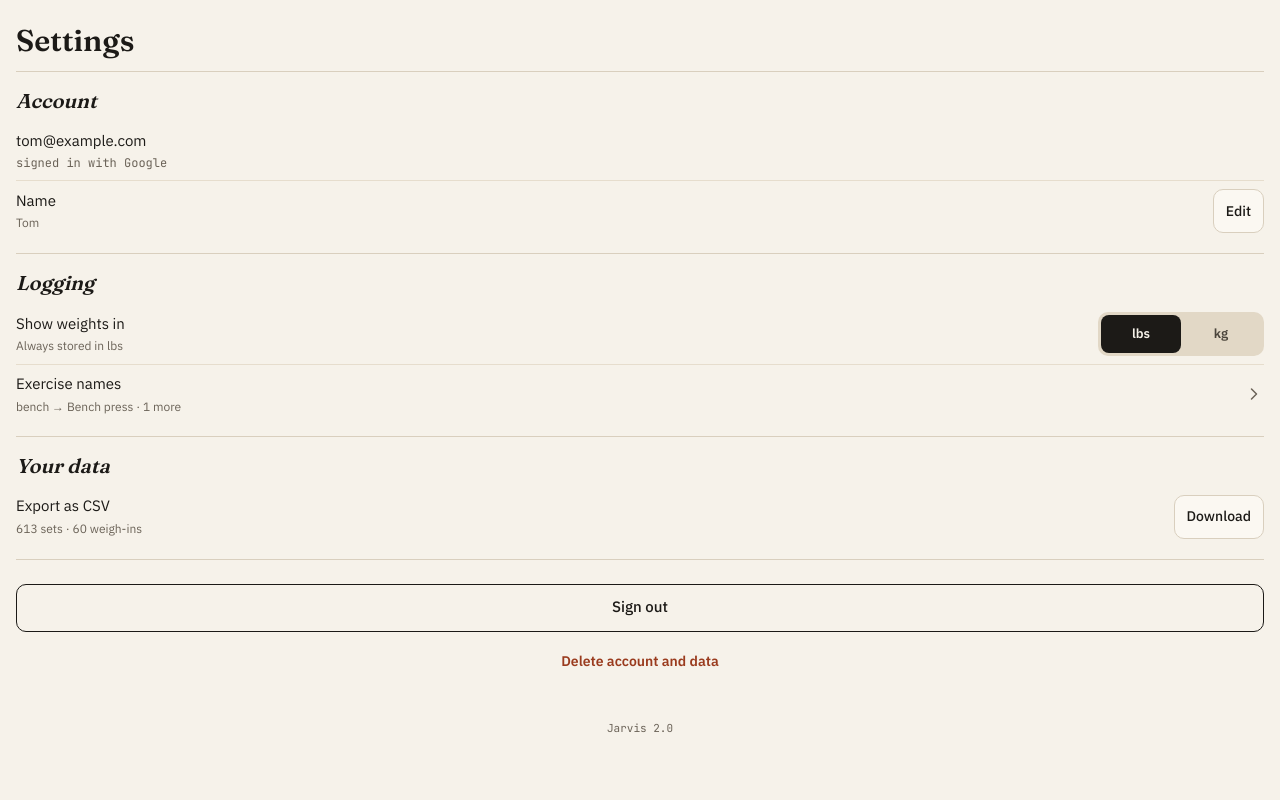
Test: Settings › edits the name: Edit, type, Enter saves; Escape cancels
Click the button "Edit" at (1238, 211), box x1=1213 y1=189 x2=1264 y2=233
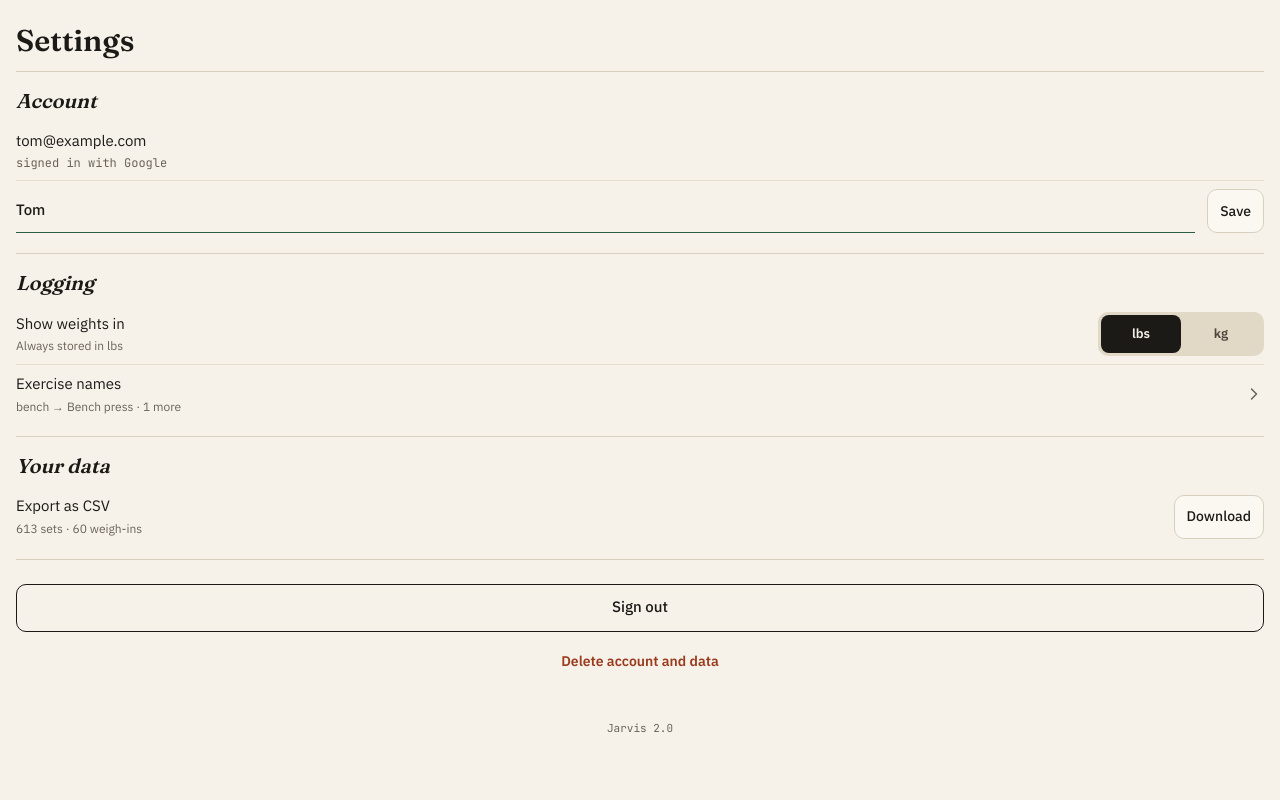
Replace the text in the field named "Your name" with "  Thomas  " at (606, 211), box x1=16 y1=189 x2=1195 y2=233
Then press Enter
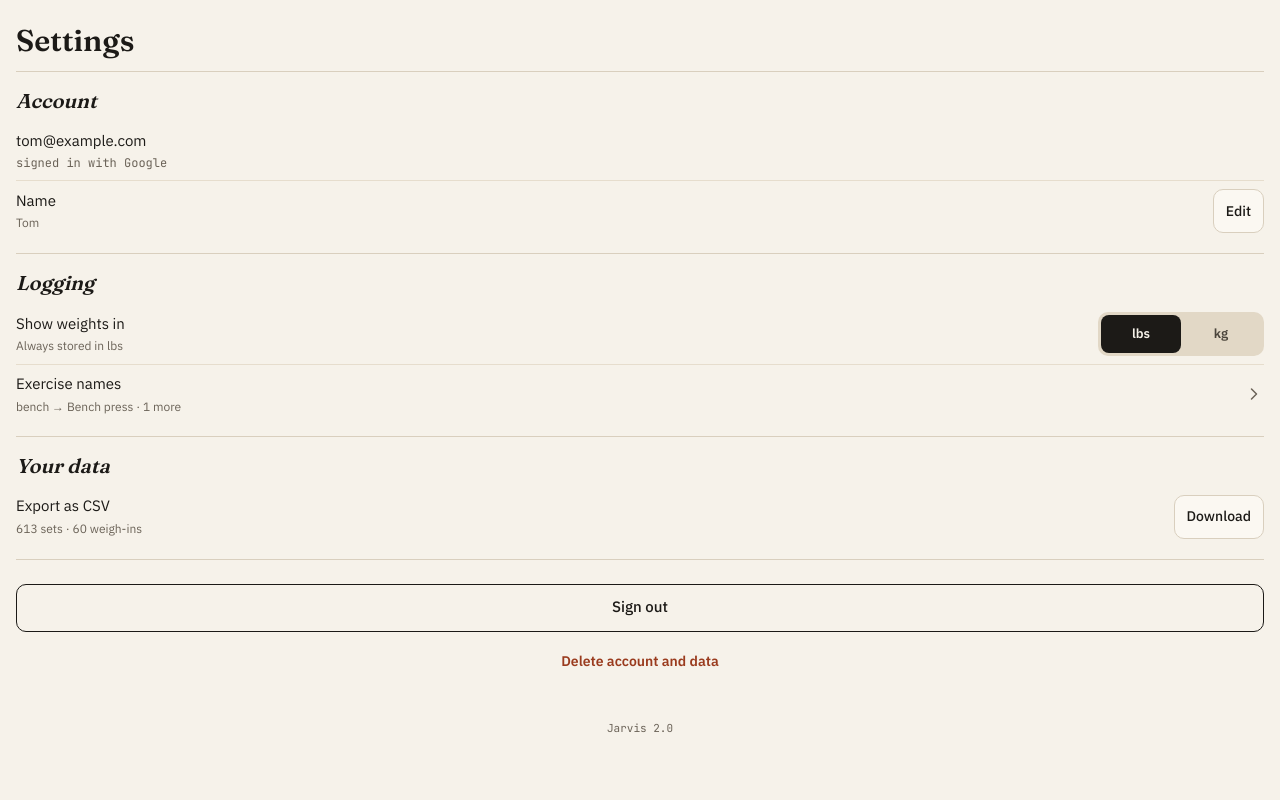
Click the button "Edit" at (1238, 211), box x1=1213 y1=189 x2=1264 y2=233
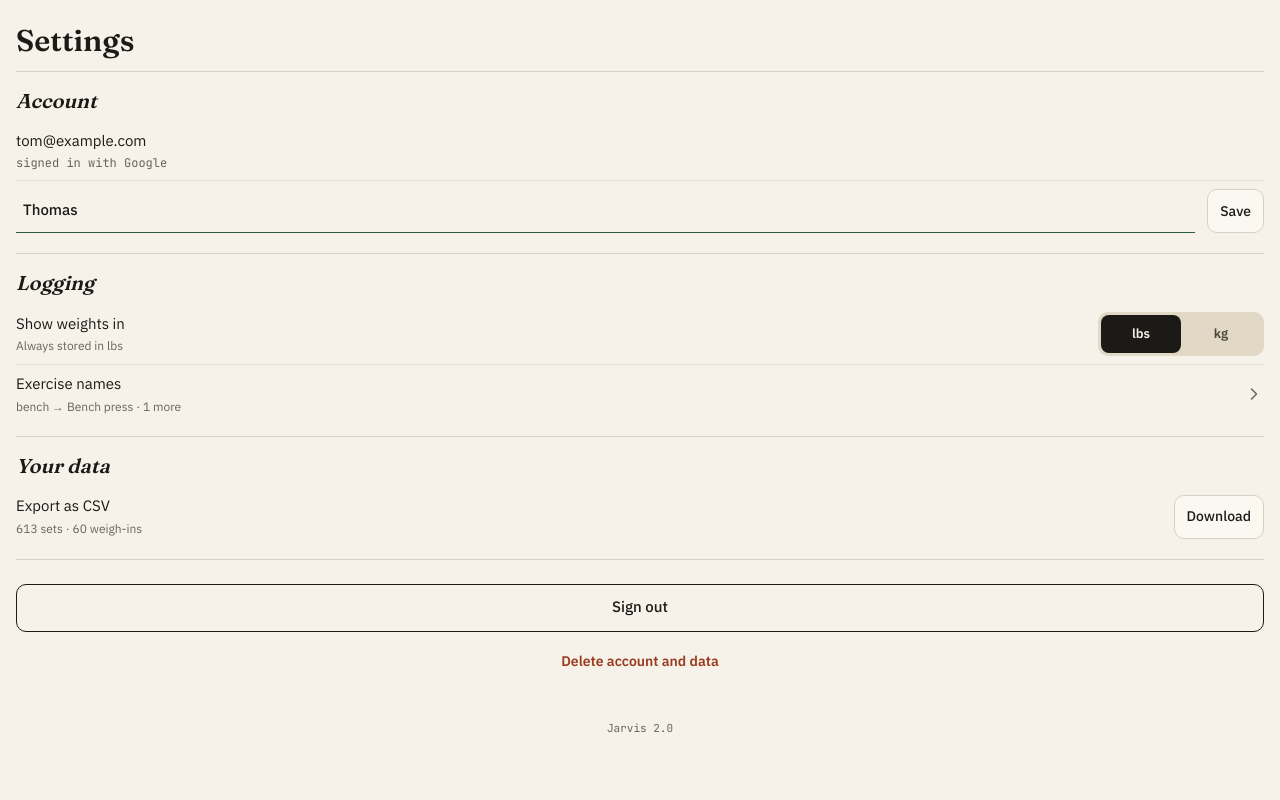
Type "xyz" into the field named "Your name" at (606, 211), box x1=16 y1=189 x2=1195 y2=233
Then press Escape
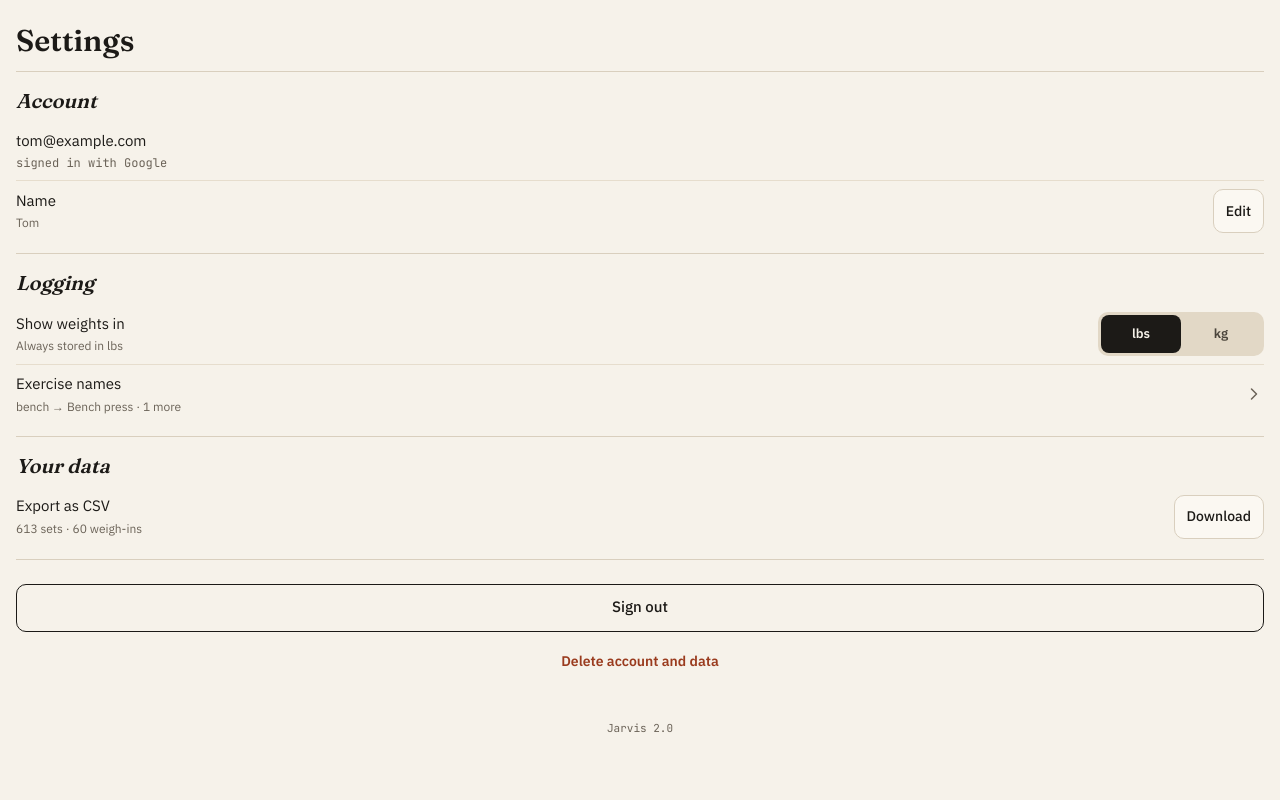
expect the text "Tom" is shown: met, box x1=16 y1=215 x2=39 y2=230
